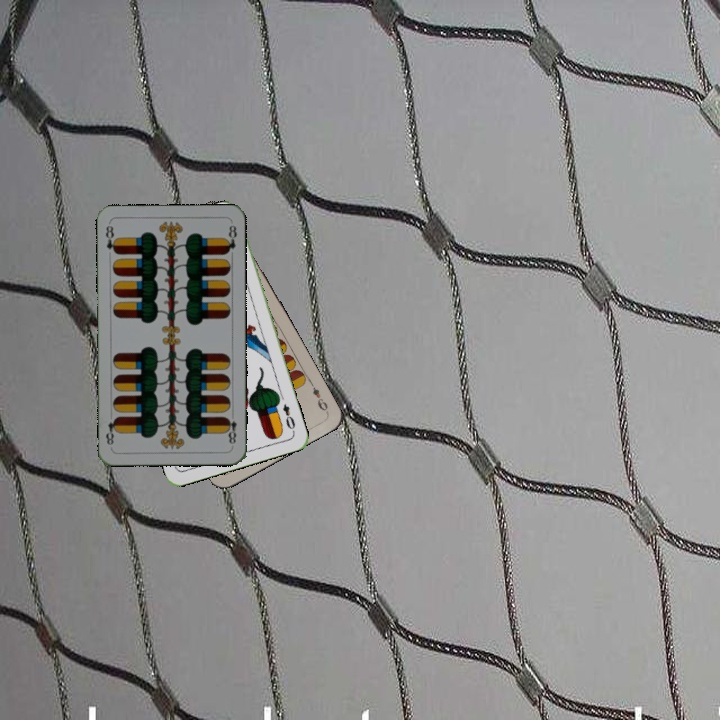E8: (101, 221, 120, 257), (222, 408, 239, 447)
E9: (306, 378, 330, 415)
EO: (279, 400, 298, 432)
